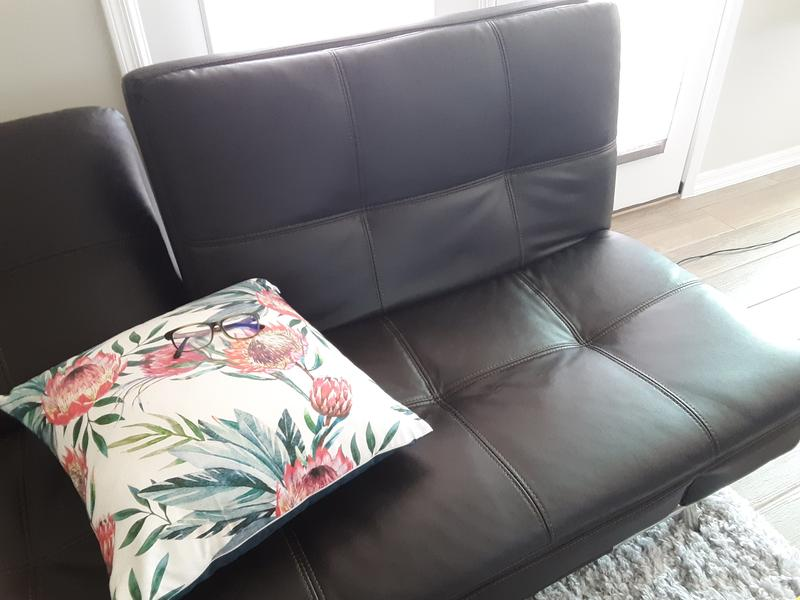glasses: (164, 310, 267, 362)
